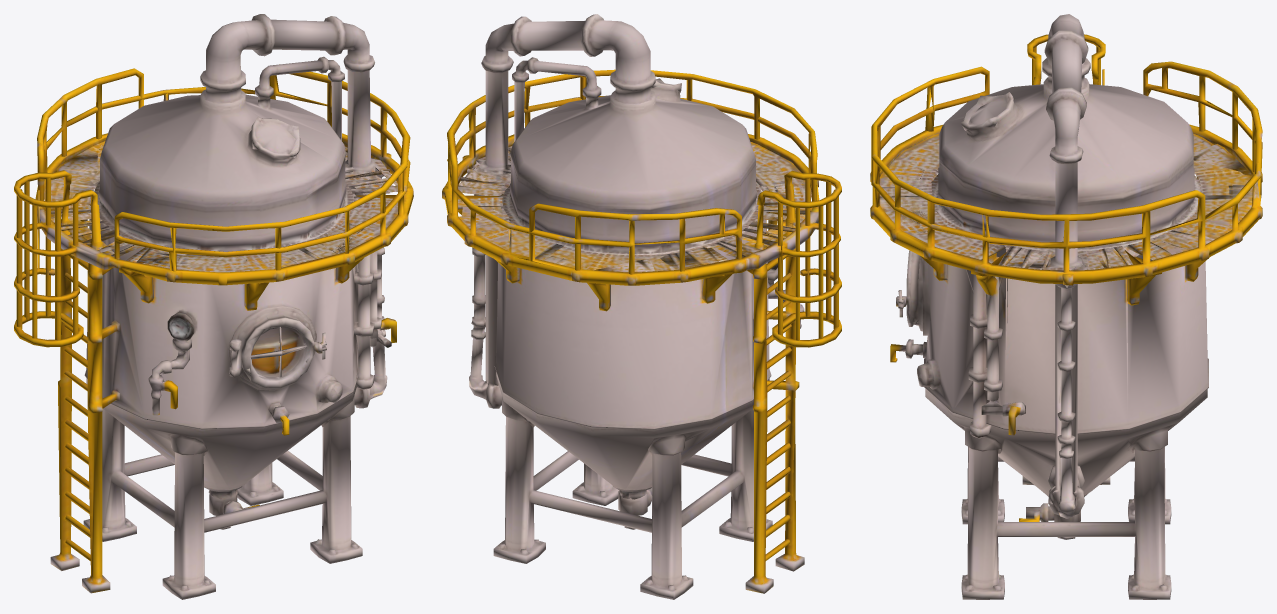
File: brew_tank.glb
3 renders of one model, left to right at view 1: azimuth 30°, elevation 25°; view 2: azimuth 150°, elevation 25°; view 3: azimuth 270°, elevation 25°, orthographic. The views are drawn at different scales.
Visible parts, largest first — view 1: tripo_node_c8d8d3c8-b88f-4fc1-b5ae-e9aa3e61ec94; view 2: tripo_node_c8d8d3c8-b88f-4fc1-b5ae-e9aa3e61ec94; view 3: tripo_node_c8d8d3c8-b88f-4fc1-b5ae-e9aa3e61ec94.
Part boxes in pixels (left/top/right/bottom): tripo_node_c8d8d3c8-b88f-4fc1-b5ae-e9aa3e61ec94: left=14, top=14, right=413, bottom=599; tripo_node_c8d8d3c8-b88f-4fc1-b5ae-e9aa3e61ec94: left=442, top=14, right=841, bottom=599; tripo_node_c8d8d3c8-b88f-4fc1-b5ae-e9aa3e61ec94: left=870, top=14, right=1262, bottom=599.
Size of the model in its own units: 0.7362 by 0.9772 by 0.6407.
1 material, 1 textured.
